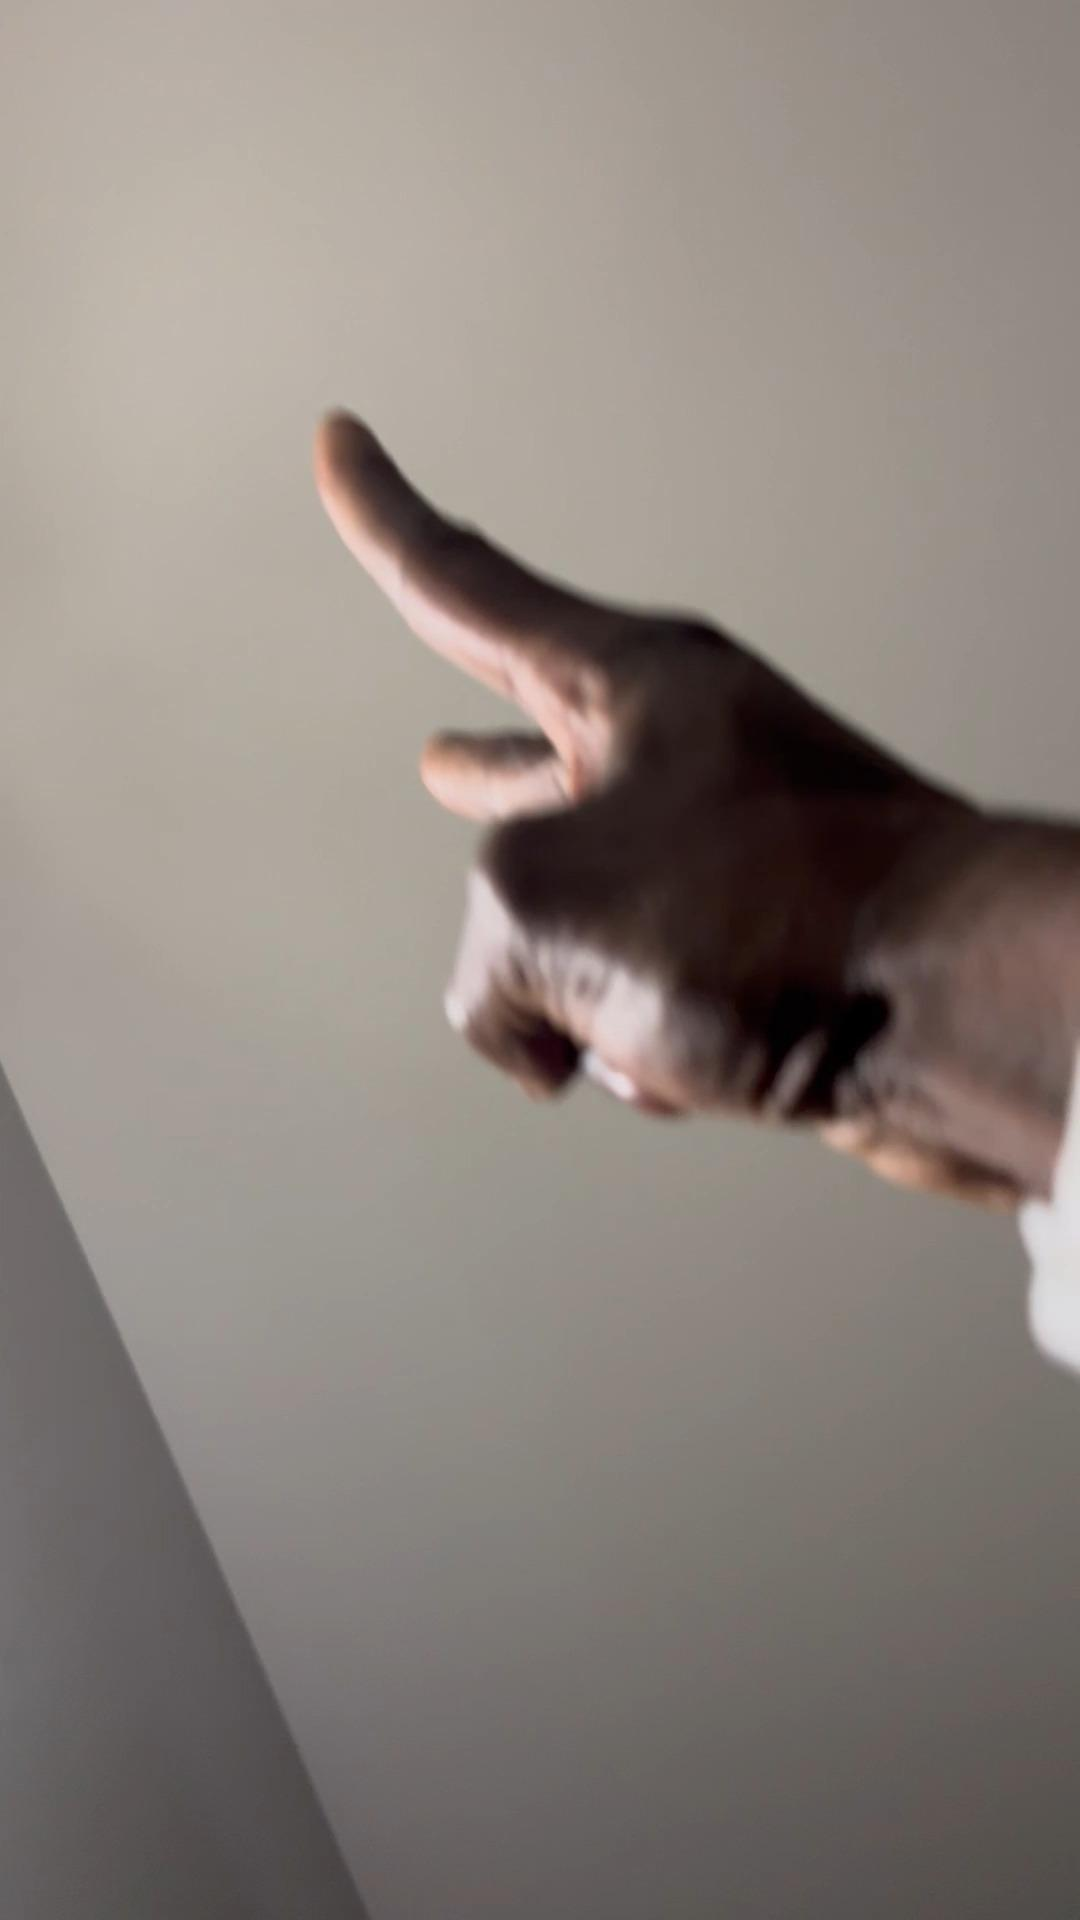Scissors: (307, 404, 973, 1185)
